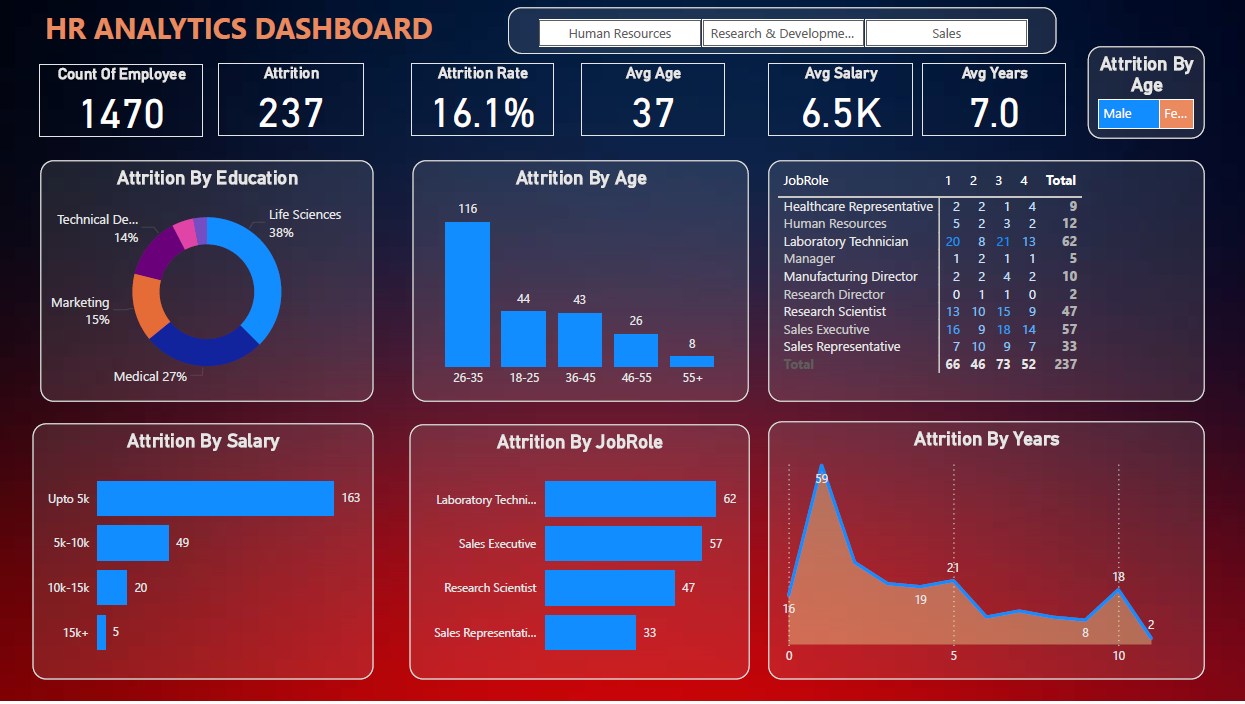

What the dashboard file says about the page in this screenshot:
{"tool":"powerbi","page":{"name":"Page 1","canvas":[1280,720],"ordinal":0},"visuals":[{"type":"card","title":"Count Of Employee","fields":{"Values":["CountNonNull(HR_Analytics.EmpID)"]},"box":[42.2,65.7,167.4,75.1],"z":0},{"type":"card","title":"Attrition","fields":{"Values":["Sum(HR_Analytics.AttritionCount)"]},"box":[225,65,150,75],"z":1000},{"type":"card","title":"Attrition Rate","fields":{"Values":["HR_Analytics.AttritionRate"]},"box":[422.5,65,147.5,75],"z":2000},{"type":"card","title":"Avg Salary","fields":{"Values":["Avg(HR_Analytics.MonthlyIncome)"]},"box":[790,65,148.8,75],"z":3000},{"type":"card","title":"Avg Age","fields":{"Values":["Avg(HR_Analytics.Age)"]},"box":[597.5,65,148.8,75],"z":4000},{"type":"card","title":"Avg Years","fields":{"Values":["Avg(HR_Analytics.YearsAtCompany)"]},"box":[947.5,65,148.8,75],"z":5000},{"type":"donutChart","title":"Attrition By Education","fields":{"Y":["Sum(HR_Analytics.AttritionCount)"],"Category":["HR_Analytics.EducationField"]},"box":[42.5,165,342.5,247.5],"z":6000},{"type":"columnChart","title":"Attrition By Age","fields":{"Category":["HR_Analytics.AgeGroup"],"Y":["Sum(HR_Analytics.AttritionCount)"]},"box":[425,165,345,247.5],"z":7000},{"type":"pivotTable","fields":{"Values":["Sum(HR_Analytics.AttritionCount)"],"Rows":["HR_Analytics.JobRole"],"Columns":["HR_Analytics.JobSatisfaction"]},"box":[790,165,447.5,247.5],"z":8000},{"type":"clusteredBarChart","title":"Attrition By Salary","fields":{"Category":["HR_Analytics.SalarySlab"],"Y":["Sum(HR_Analytics.AttritionCount)"]},"box":[35,435,350,262.5],"z":9000},{"type":"clusteredBarChart","title":"Attrition By JobRole","fields":{"Y":["Sum(HR_Analytics.AttritionCount)"],"Category":["HR_Analytics.JobRole"]},"box":[422.5,435.8,348.6,262.7],"z":10000},{"type":"areaChart","title":"Attrition By Years","fields":{"Category":["HR_Analytics.YearsAtCompany"],"Y":["Sum(HR_Analytics.AttritionCount)"]},"box":[790,432.5,447.5,265],"z":11000},{"type":"treemap","title":"Attrition By Age","fields":{"Group":["HR_Analytics.Gender"],"Values":["Sum(HR_Analytics.AttritionCount)"]},"box":[1117.5,47.5,120,95],"z":12000},{"type":"slicer","fields":{"Values":["HR_Analytics.Department"]},"box":[522.5,7.5,563.8,48.8],"z":13000},{"type":"textbox","title":"HR ANALYTICS DASHBOARD","box":[42.5,8.8,487.5,47.5],"z":14000}]}

Visuals, with their boxes in screenshot pixels (x1, y1, x2, y2), scaled from the page's 1280x720 canvas onto the 1245x704 screenshot:
"Count Of Employee" card: left=41, top=64, right=204, bottom=138
"Attrition" card: left=219, top=64, right=365, bottom=137
"Attrition Rate" card: left=411, top=64, right=554, bottom=137
"Avg Salary" card: left=768, top=64, right=913, bottom=137
"Avg Age" card: left=581, top=64, right=726, bottom=137
"Avg Years" card: left=922, top=64, right=1066, bottom=137
"Attrition By Education" donutChart: left=41, top=161, right=374, bottom=403
"Attrition By Age" columnChart: left=413, top=161, right=749, bottom=403
pivotTable - Sum(HR_Analytics.AttritionCount) x HR_Analytics.JobRole: left=768, top=161, right=1204, bottom=403
"Attrition By Salary" clusteredBarChart: left=34, top=425, right=374, bottom=682
"Attrition By JobRole" clusteredBarChart: left=411, top=426, right=750, bottom=683
"Attrition By Years" areaChart: left=768, top=423, right=1204, bottom=682
"Attrition By Age" treemap: left=1087, top=46, right=1204, bottom=139
slicer - HR_Analytics.Department: left=508, top=7, right=1057, bottom=55
"HR ANALYTICS DASHBOARD" textbox: left=41, top=9, right=516, bottom=55
